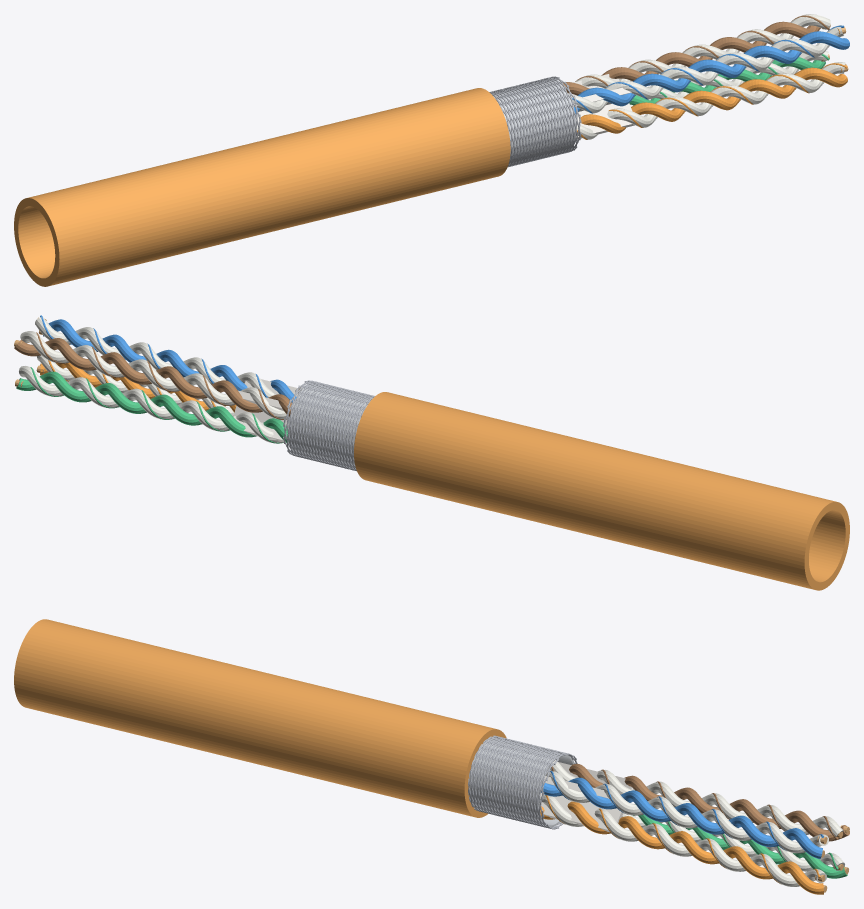
File: cat7.glb
3 renders of one model, top to bottom at view 1: azimuth 30°, elevation 25°; view 2: azimuth 150°, elevation 25°; view 3: azimuth 330°, elevation 25°, orthographic.
Visible parts, largest first — view 1: 01_Jaket_Luar_PVC_Berongga, 05_Pasangan_1_biru_Berwarna, 05_Pasangan_2_oren_Berwarna, 05_Pasangan_1_biru_Putih_Berjalur, 05_Pasangan_2_oren_Putih_Berjalur, 02_Foil_Screen_Aluminium, 05_Pasangan_4_coklat_Berwarna, 05_Pasangan_4_coklat_Putih_Berjalur, 05_Pasangan_3_hijau_Berwarna, 05_Pasangan_3_hijau_Putih_Berjalur, 04_Pemisah_Teras_2; view 2: 01_Jaket_Luar_PVC_Berongga, 05_Pasangan_4_coklat_Berwarna, 05_Pasangan_3_hijau_Berwarna, 05_Pasangan_4_coklat_Putih_Berjalur, 05_Pasangan_3_hijau_Putih_Berjalur, 02_Foil_Screen_Aluminium, 05_Pasangan_1_biru_Berwarna, 05_Pasangan_1_biru_Putih_Berjalur, 05_Pasangan_2_oren_Putih_Berjalur, 05_Pasangan_2_oren_Berwarna; view 3: 01_Jaket_Luar_PVC_Berongga, 05_Pasangan_1_biru_Berwarna, 05_Pasangan_2_oren_Berwarna, 05_Pasangan_2_oren_Putih_Berjalur, 05_Pasangan_1_biru_Putih_Berjalur, 02_Foil_Screen_Aluminium, 05_Pasangan_4_coklat_Berwarna, 05_Pasangan_4_coklat_Putih_Berjalur, 05_Pasangan_3_hijau_Berwarna, 05_Pasangan_3_hijau_Putih_Berjalur, 04_Pemisah_Teras_2.
Part boxes in pixels (bbox=[...]): 01_Jaket_Luar_PVC_Berongga: bbox=[14, 88, 510, 286]; 05_Pasangan_1_biru_Berwarna: bbox=[574, 31, 849, 114]; 05_Pasangan_2_oren_Berwarna: bbox=[580, 67, 847, 133]; 05_Pasangan_1_biru_Putih_Berjalur: bbox=[569, 25, 843, 113]; 05_Pasangan_2_oren_Putih_Berjalur: bbox=[576, 62, 845, 139]; 02_Foil_Screen_Aluminium: bbox=[493, 79, 575, 163]; 05_Pasangan_4_coklat_Berwarna: bbox=[562, 21, 820, 95]; 05_Pasangan_4_coklat_Putih_Berjalur: bbox=[575, 14, 830, 88]; 05_Pasangan_3_hijau_Berwarna: bbox=[629, 57, 825, 105]; 05_Pasangan_3_hijau_Putih_Berjalur: bbox=[630, 51, 828, 106]; 04_Pemisah_Teras_2: bbox=[575, 103, 634, 138]; 01_Jaket_Luar_PVC_Berongga: bbox=[354, 392, 849, 590]; 05_Pasangan_4_coklat_Berwarna: bbox=[14, 338, 291, 416]; 05_Pasangan_3_hijau_Berwarna: bbox=[16, 371, 288, 442]; 05_Pasangan_4_coklat_Putih_Berjalur: bbox=[20, 331, 288, 419]; 05_Pasangan_3_hijau_Putih_Berjalur: bbox=[19, 366, 283, 443]; 02_Foil_Screen_Aluminium: bbox=[288, 384, 370, 467]; 05_Pasangan_1_biru_Berwarna: bbox=[43, 319, 296, 402]; 05_Pasangan_1_biru_Putih_Berjalur: bbox=[35, 317, 303, 397]; 05_Pasangan_2_oren_Putih_Berjalur: bbox=[37, 355, 234, 416]; 05_Pasangan_2_oren_Berwarna: bbox=[40, 362, 236, 412]; 01_Jaket_Luar_PVC_Berongga: bbox=[14, 619, 506, 817]; 05_Pasangan_1_biru_Berwarna: bbox=[541, 777, 822, 858]; 05_Pasangan_2_oren_Berwarna: bbox=[540, 801, 823, 894]; 05_Pasangan_2_oren_Putih_Berjalur: bbox=[540, 794, 826, 886]; 05_Pasangan_1_biru_Putih_Berjalur: bbox=[545, 771, 828, 853]; 02_Foil_Screen_Aluminium: bbox=[469, 738, 573, 826]; 05_Pasangan_4_coklat_Berwarna: bbox=[569, 763, 849, 841]; 05_Pasangan_4_coklat_Putih_Berjalur: bbox=[550, 760, 843, 836]; 05_Pasangan_3_hijau_Berwarna: bbox=[633, 804, 847, 878]; 05_Pasangan_3_hijau_Putih_Berjalur: bbox=[621, 813, 844, 871]; 04_Pemisah_Teras_2: bbox=[539, 793, 623, 832].
Size of the model in its own units: 18.27 by 1.8 by 1.8.
